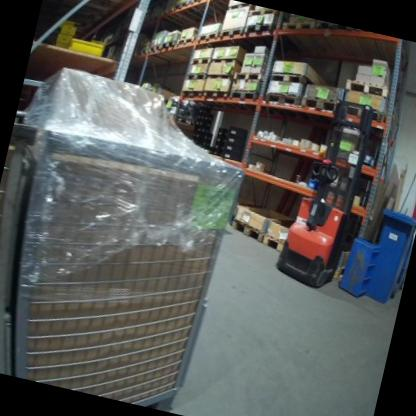pallet: (37, 0, 142, 53), (345, 76, 399, 103), (297, 91, 342, 119), (270, 66, 323, 89), (228, 216, 268, 245), (343, 102, 386, 126), (280, 17, 318, 42), (227, 84, 264, 109), (233, 65, 268, 90), (263, 87, 301, 110), (241, 17, 274, 42), (209, 51, 248, 72), (199, 82, 230, 107), (219, 20, 246, 45), (205, 69, 235, 88), (264, 233, 288, 254), (188, 51, 213, 70), (249, 6, 277, 22), (196, 28, 218, 48), (186, 66, 209, 85), (179, 86, 201, 104), (174, 33, 195, 51), (161, 38, 175, 56), (148, 43, 162, 59), (191, 0, 209, 7)
pallet_truck: (271, 89, 384, 299)
small_load_carrier: (219, 149, 242, 164), (305, 176, 323, 195), (225, 134, 246, 148), (228, 125, 247, 139), (222, 143, 244, 155)
stillage: (0, 106, 252, 416)
